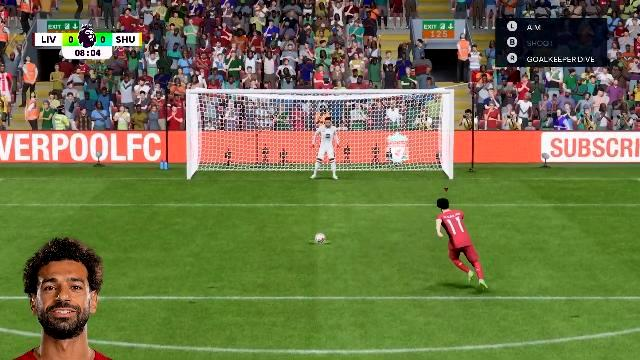bottom-left: (196, 138, 284, 180)
bottom-right: (364, 138, 446, 180)
center-down: (286, 138, 362, 180)
center-up: (286, 96, 362, 138)
circle: (309, 238, 331, 243)
football: (314, 233, 326, 243)
goalkeeper: (310, 116, 344, 180)
player: (431, 197, 492, 298)
top-left: (193, 96, 284, 138)
top-right: (364, 96, 446, 138)
